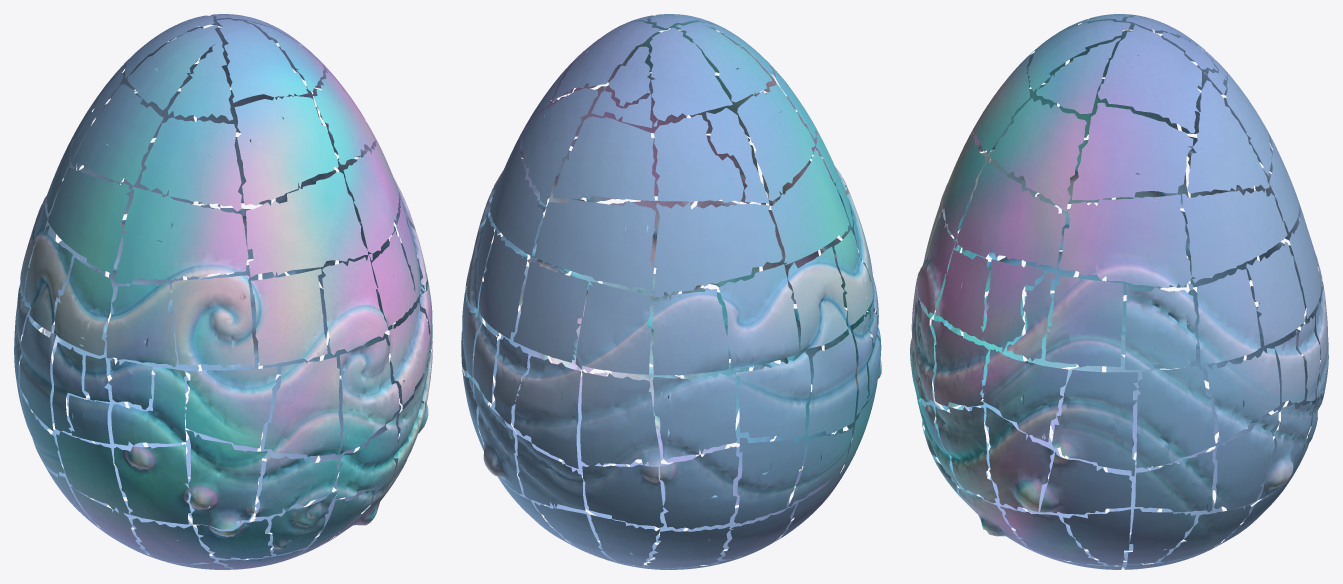
The model's file is oeuf.glb.
The picture shows the model from 3 angles, left to right: view 1: azimuth 30°, elevation 25°; view 2: azimuth 150°, elevation 25°; view 3: azimuth 270°, elevation 25°; orthographic projection.
Visible parts, largest first — view 1: mesh_node; view 2: mesh_node; view 3: mesh_node.
Part boxes in pixels (bbox=[...]): mesh_node: bbox=[14, 14, 432, 569]; mesh_node: bbox=[461, 14, 881, 569]; mesh_node: bbox=[910, 14, 1328, 569].
Bounding box in the file's own units: 1.37 × 1.9 × 1.37.
Materials: 1 (1 with a texture image).
